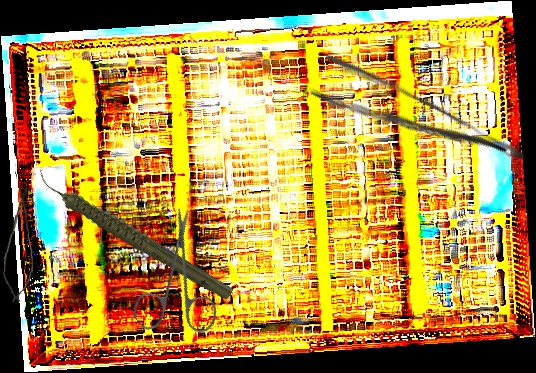Dressing Forceps: (306, 49, 529, 195)
Handpiece: (32, 131, 238, 337)
Iris Scissors: (99, 205, 255, 362)
Micro Scissor: (1, 182, 38, 305)
